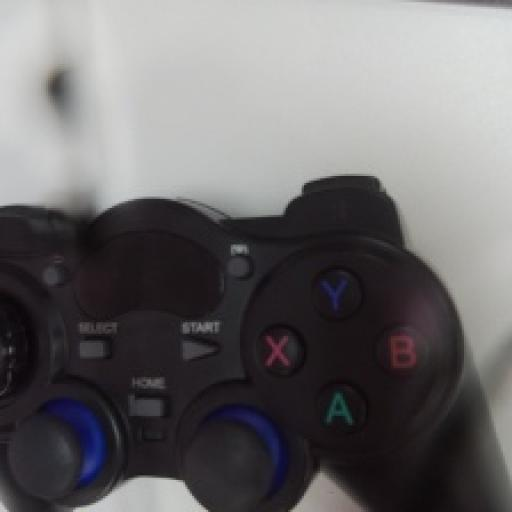game pad: (0, 176, 510, 510)
